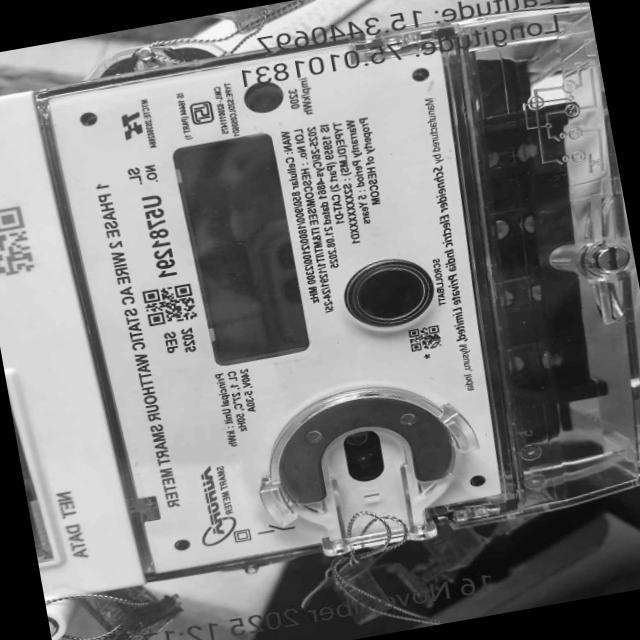meter: (0, 21, 538, 600)
